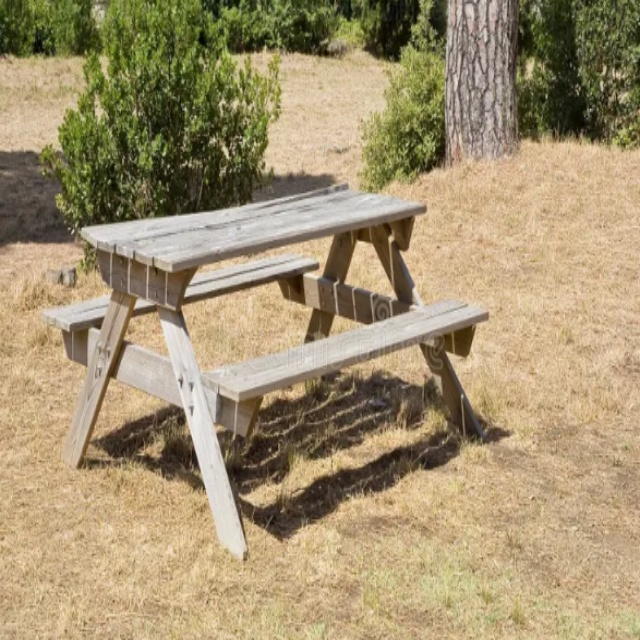obstacle: (39, 186, 492, 561)
